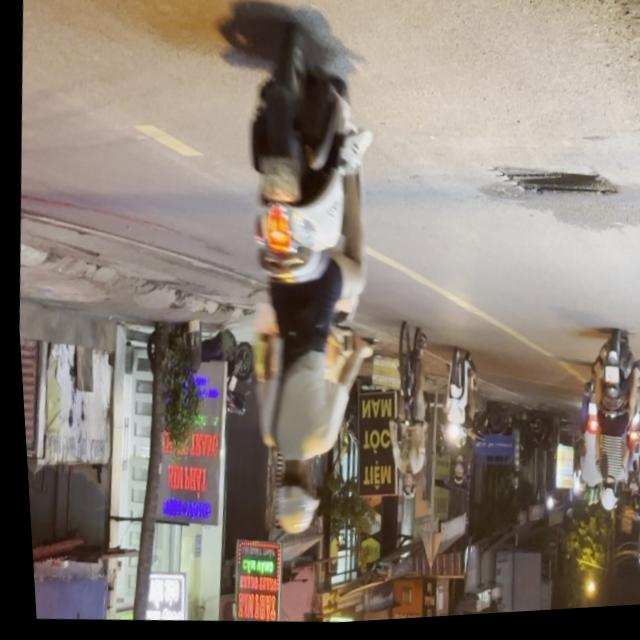helmet: (260, 459, 317, 541)
licenseplate: (202, 3, 400, 551)
nohelmet: (251, 158, 296, 208)
